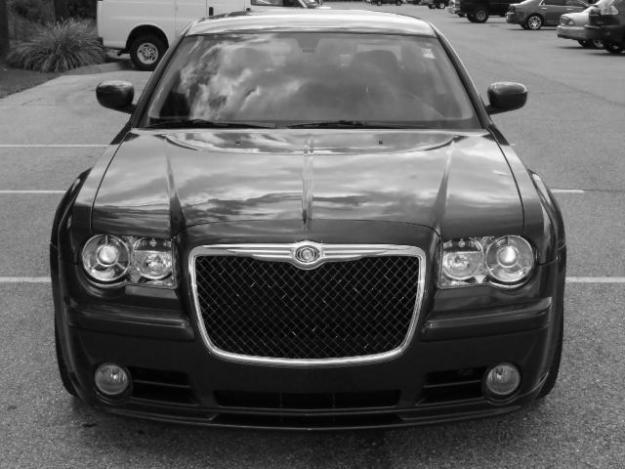car: (48, 7, 571, 442)
